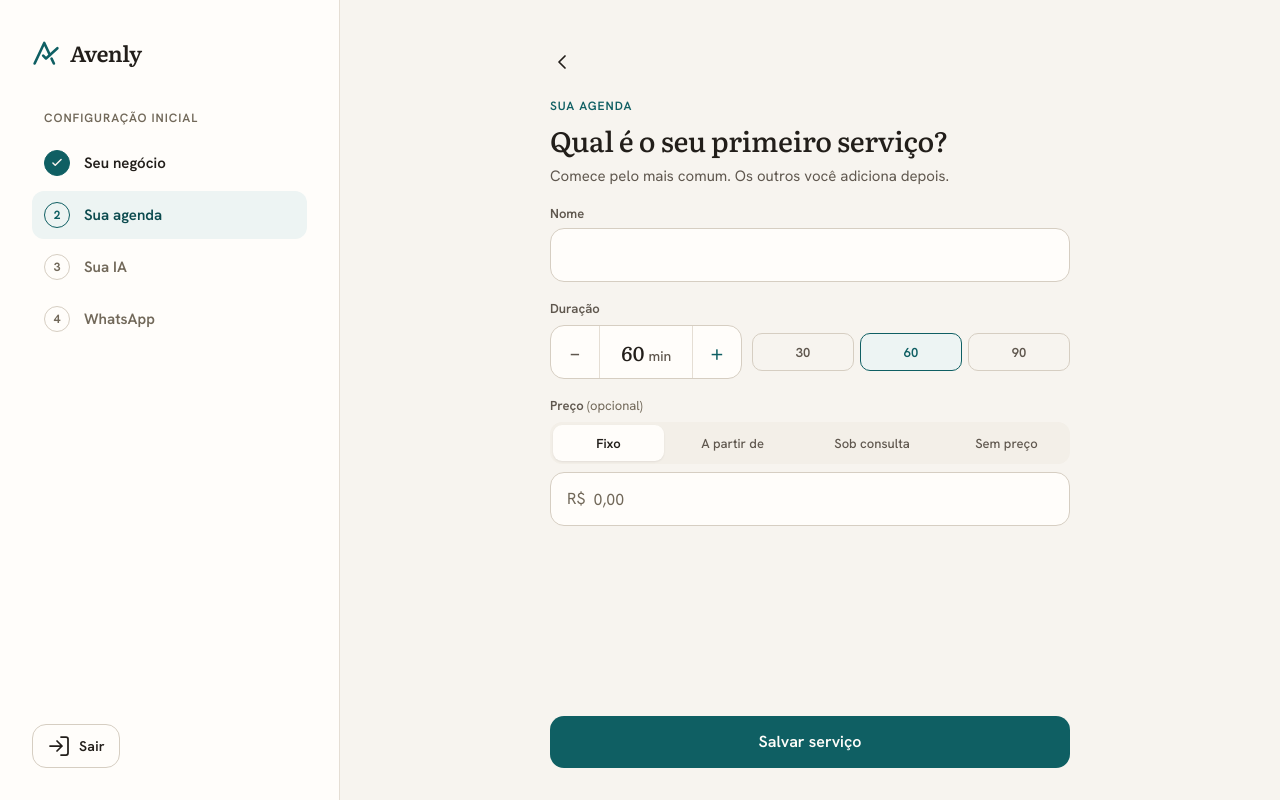
Test: duração: passos de 5 minutos e atalhos (§6.6) › + a partir de 60 dá 65 e − dá 55
The width and height of the screenshot is (1280, 800).
Check: the number field named "Duração em minutos" holds "60", box left=621, top=337, right=644, bottom=367
Click the button named "Aumentar duração" at x=716, y=352, box left=692, top=326, right=741, bottom=378
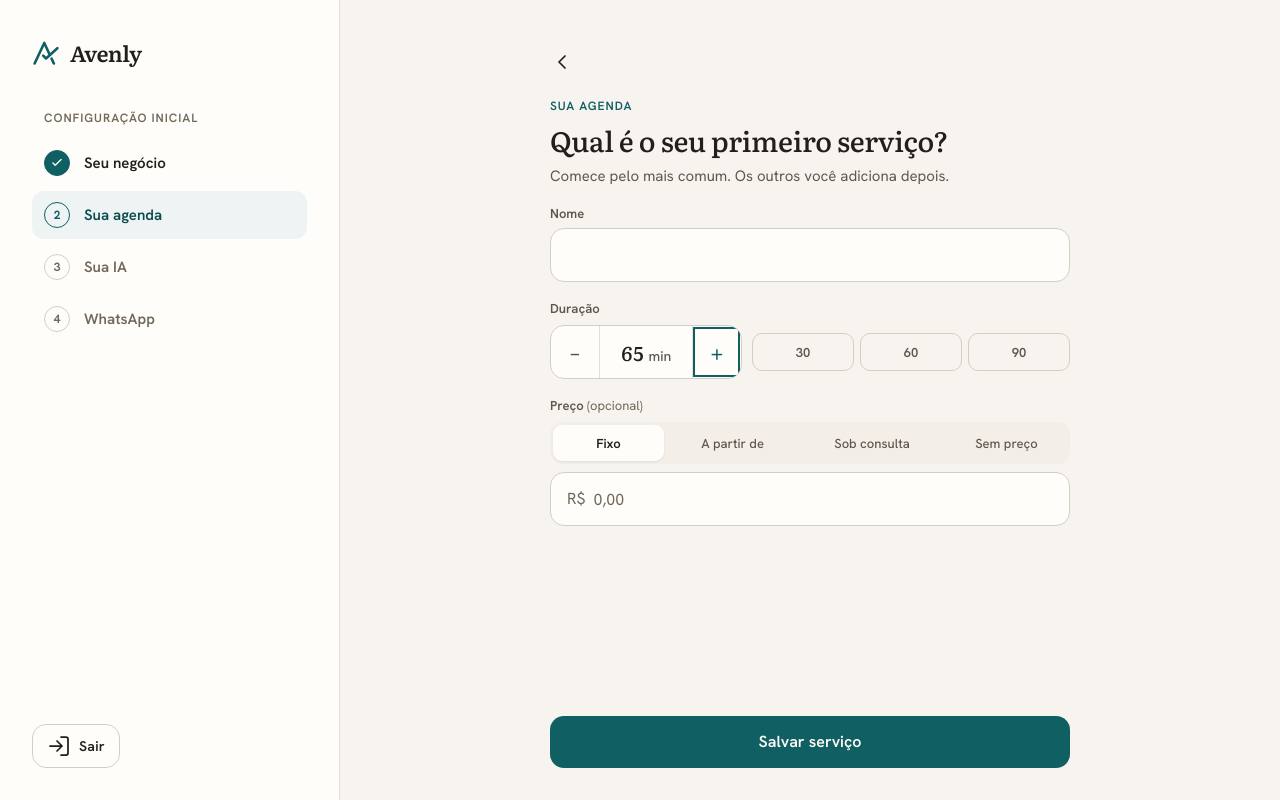
Check: the number field named "Duração em minutos" holds "65", box left=621, top=337, right=644, bottom=367
Click the button named "Diminuir duração" at x=576, y=352, box left=551, top=326, right=600, bottom=378
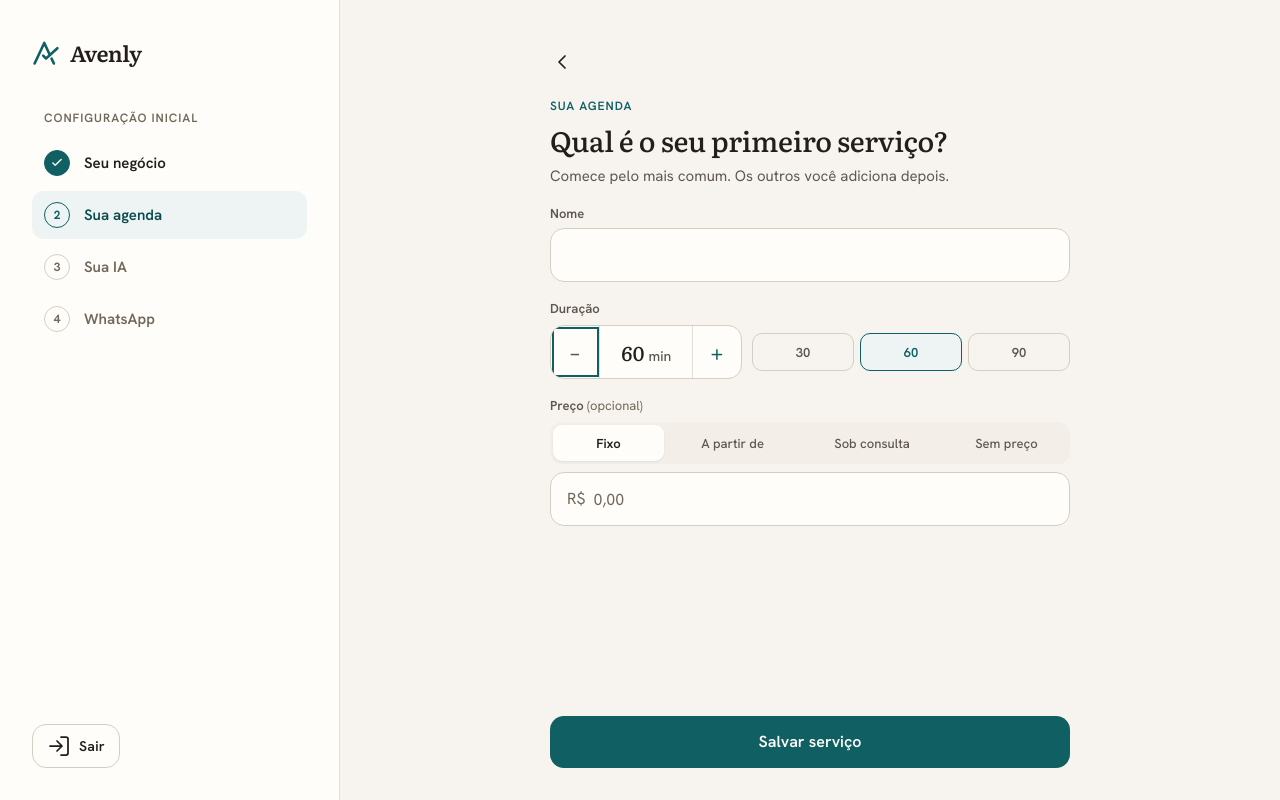
Click the button named "Diminuir duração" at x=576, y=352, box left=551, top=326, right=600, bottom=378
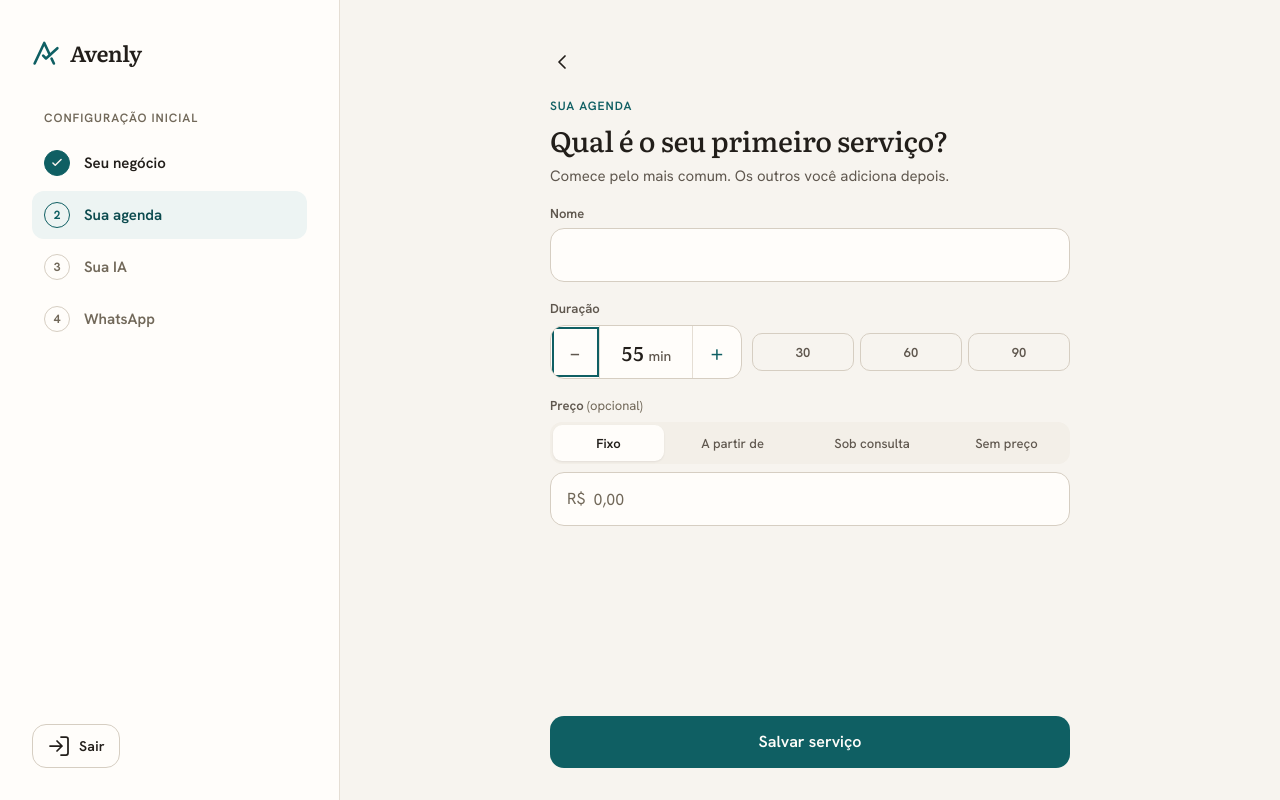
Check: the number field named "Duração em minutos" holds "55", box left=621, top=337, right=644, bottom=367
